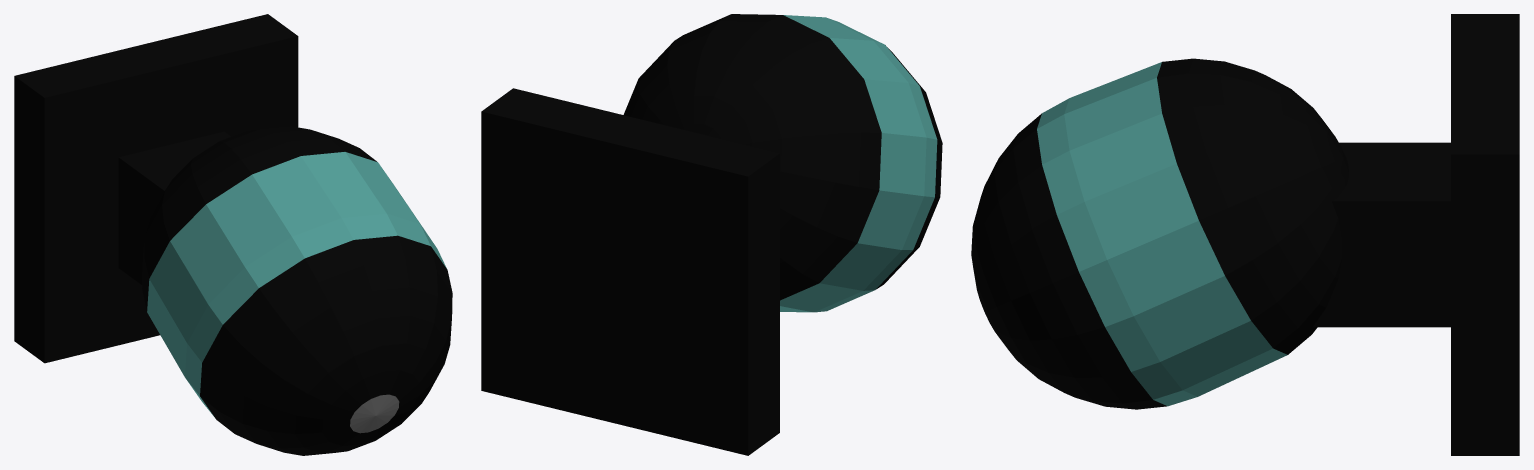
File: Camrea Down.fbx
The picture shows the model from 3 angles, left to right: view 1: azimuth 30°, elevation 25°; view 2: azimuth 150°, elevation 25°; view 3: azimuth 270°, elevation 25°; orthographic projection. The views are drawn at different scales.
Parts seen in each view (by area): view 1: Cube; view 2: Cube; view 3: Cube.
Part boxes in pixels (x1,y1,x2,y2): Cube: [14, 14, 452, 455]; Cube: [481, 14, 942, 455]; Cube: [971, 14, 1519, 455].
Bounding box in the file's own units: 165 × 176 × 272.
